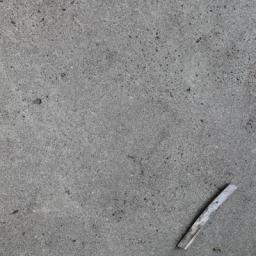FOD: (175, 181, 247, 256)
